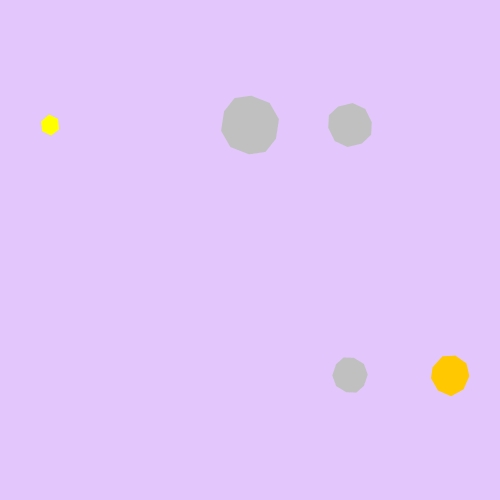decagon: (216, 94, 284, 157), (323, 101, 377, 150), (328, 355, 373, 396)
hexagon: (35, 112, 65, 138)
nonagon: (426, 352, 474, 398)
